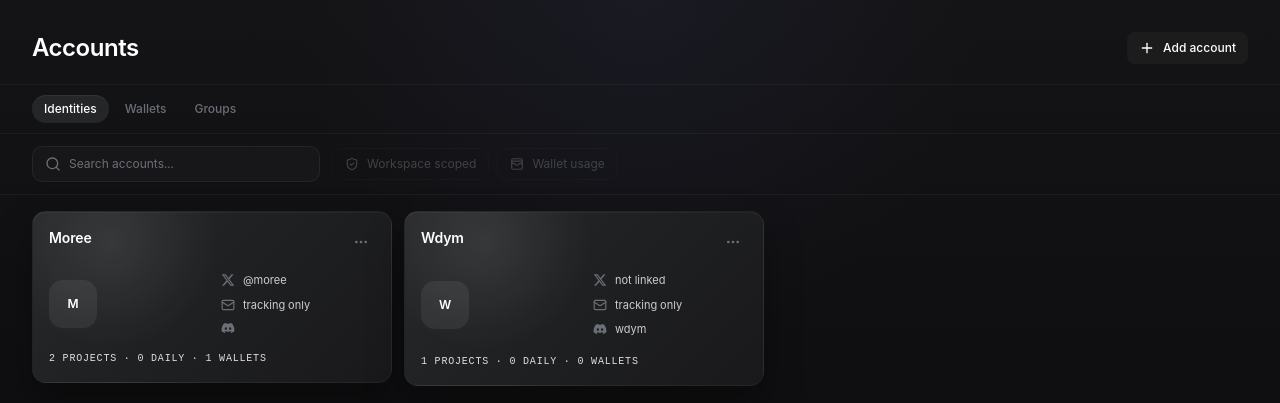
Test: AccountsPreview › deletes an account after inline confirmation in development preview
This screenshot has width=1280, height=403.
Expected: the heading "Moree" is shown, left=49, top=228, right=92, bottom=248
Click the button named "More options for Moree": [361, 242] box left=347, top=228, right=375, bottom=256
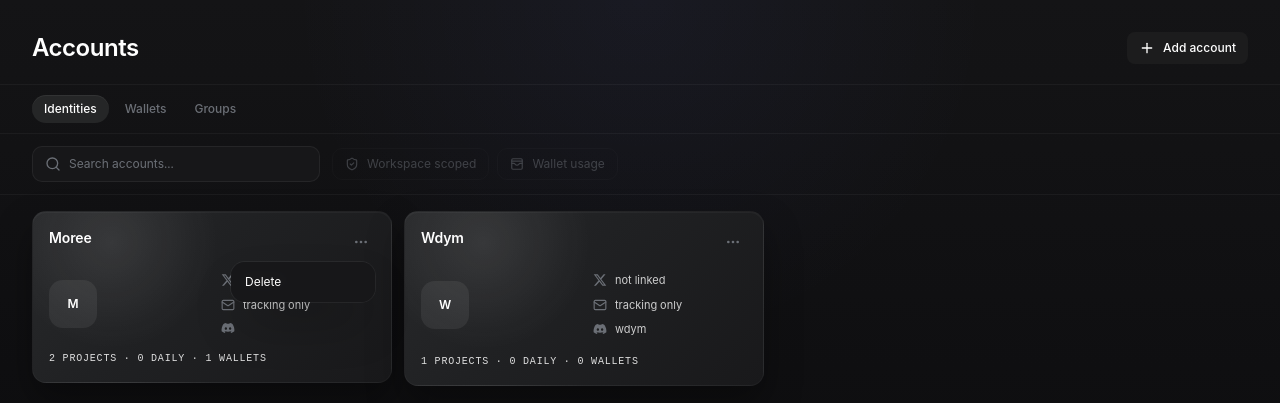
Click the button "Delete": [303, 282] box left=235, top=266, right=371, bottom=298
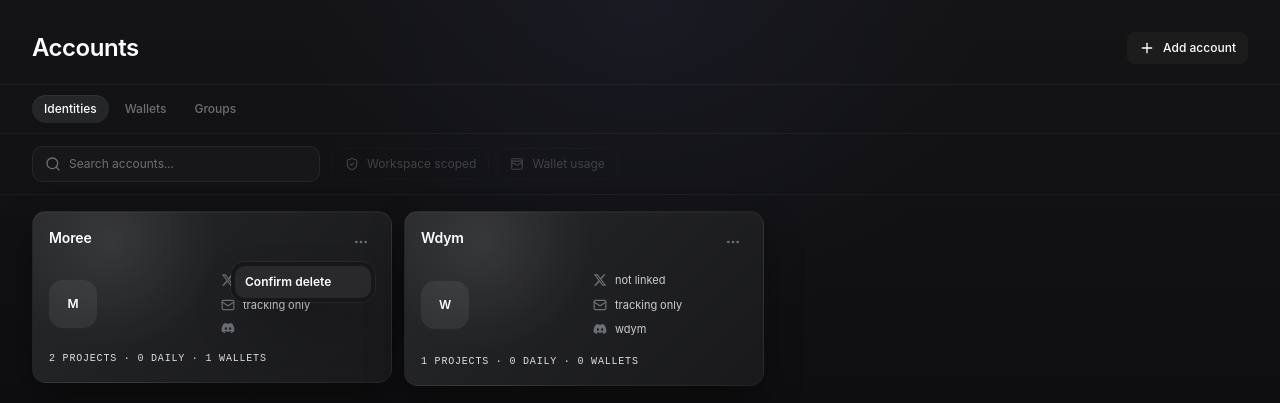
Click the button "Confirm delete": [303, 282] box left=235, top=266, right=371, bottom=298
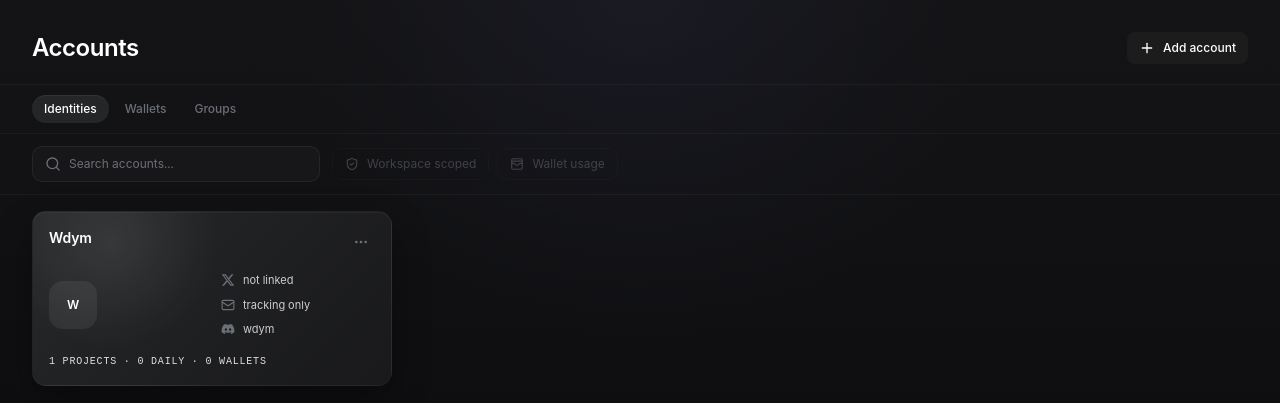
Expected: no headings "Moree" are shown
